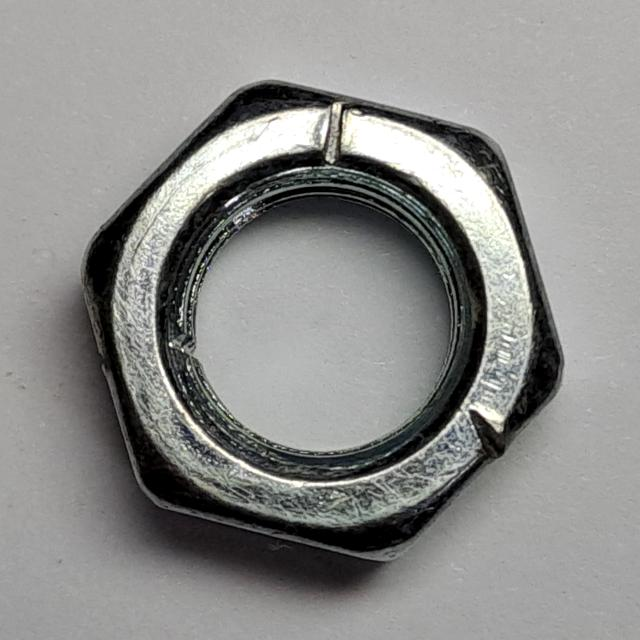Scratches: (68, 68, 578, 575)
